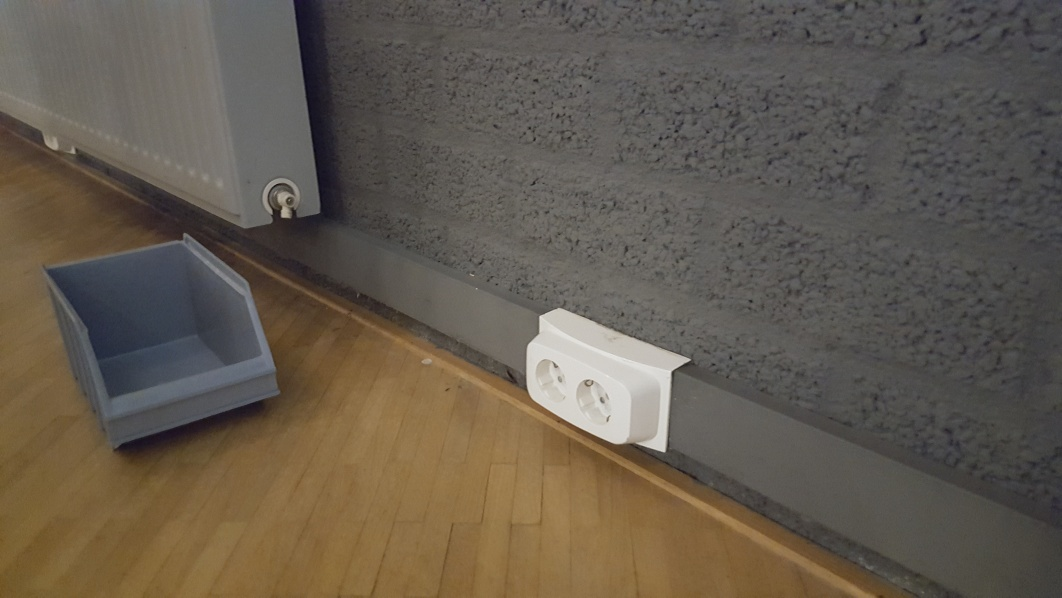tray: (36, 231, 282, 453)
